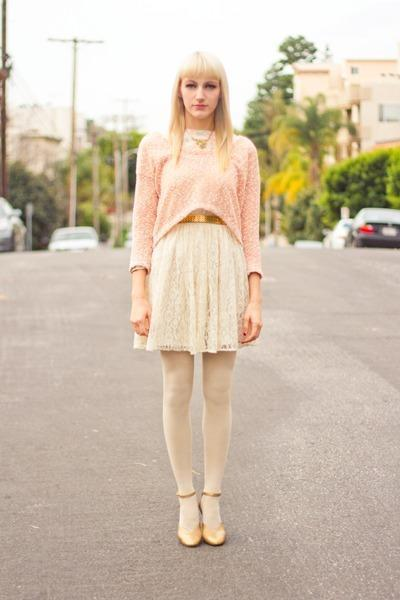shirt: (122, 129, 265, 270)
shoe: (178, 479, 224, 544)
skirt: (146, 223, 251, 363)
